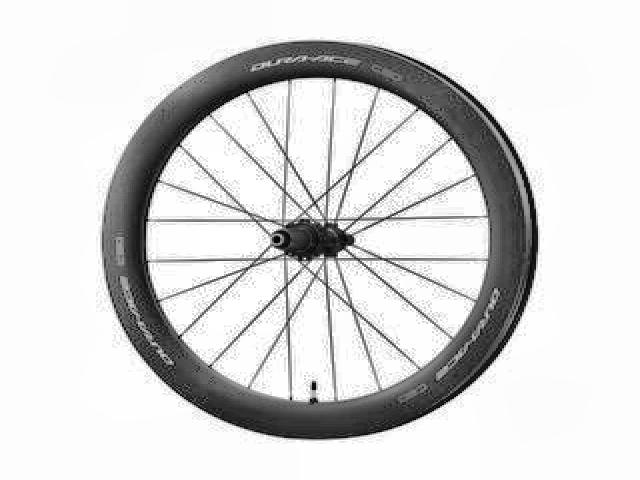wheel: (92, 35, 545, 444)
